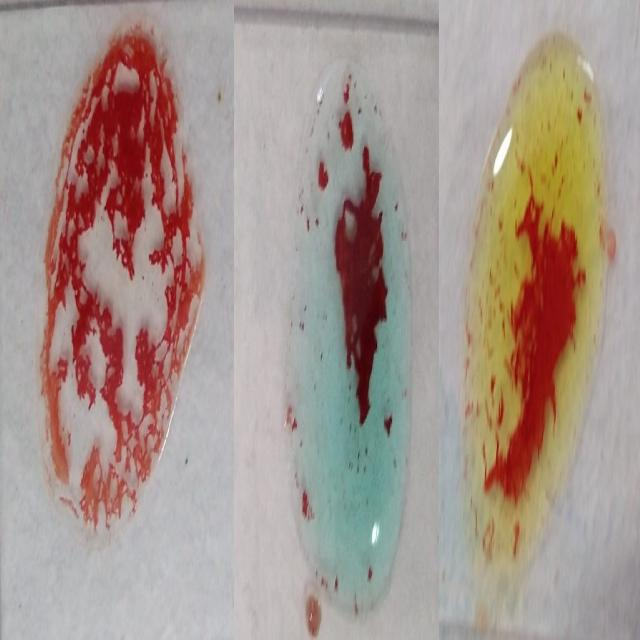A: (286, 52, 412, 611)
B: (464, 30, 606, 582)
D: (42, 20, 196, 534)
